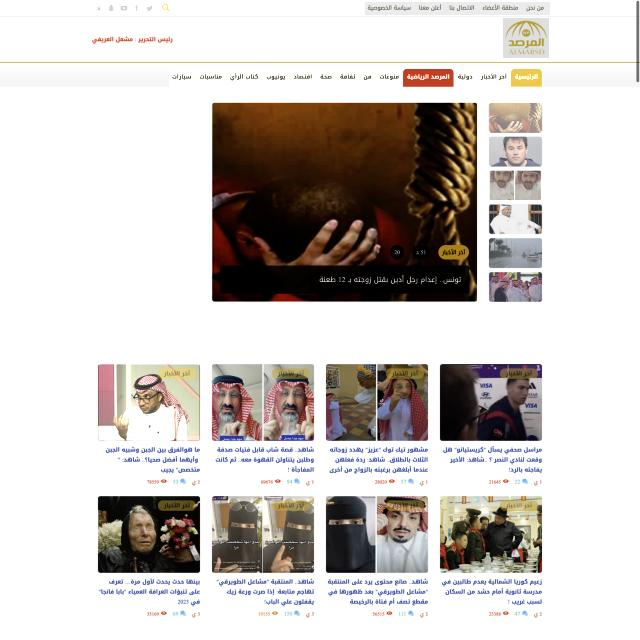copy: (213, 103, 477, 301), (212, 494, 314, 571), (99, 363, 199, 440), (488, 136, 542, 166), (490, 170, 542, 201), (489, 102, 542, 132), (489, 204, 542, 234)
date picker: (503, 18, 549, 58)
decoration: (365, 2, 550, 15), (92, 1, 175, 15)
icon: (169, 68, 544, 88)
